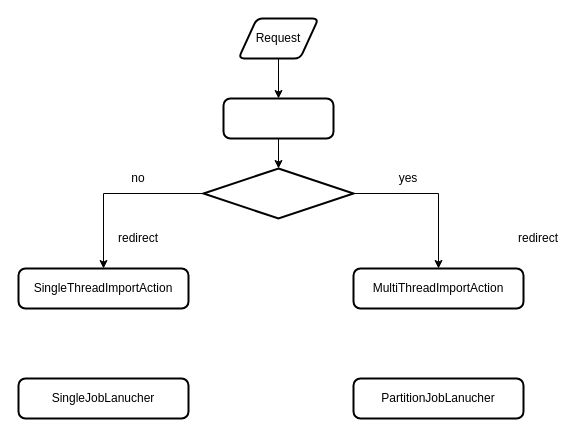
Some shapes in this 575 by 436 pixel diagram are drawn without their labels. Each missing label, with the centre of its shape:
"CommonAction" goes at (278,118).
"fileSize>threshold？" goes at (278,193).
